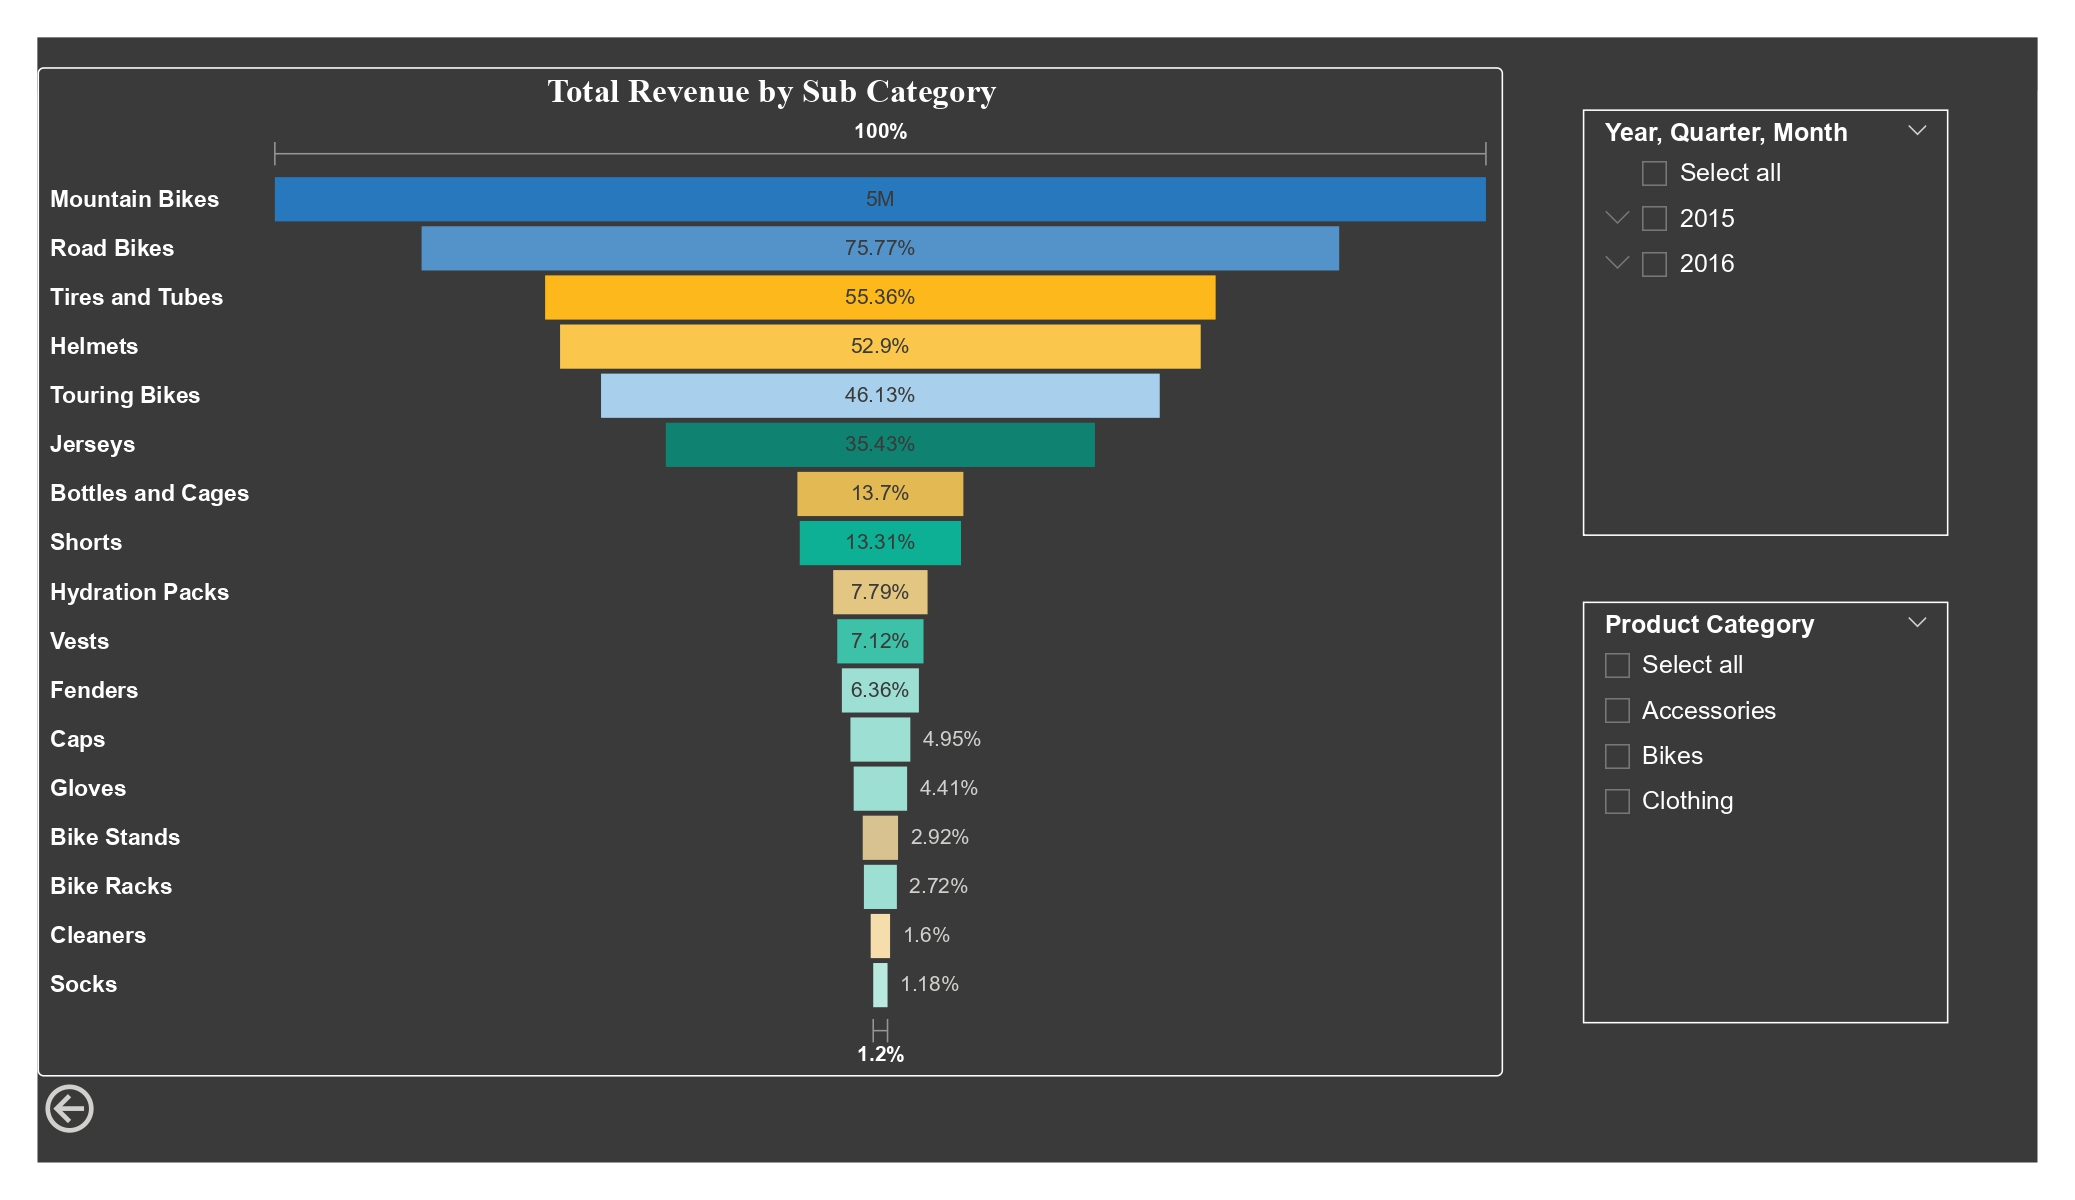

What the dashboard file says about the page in this screenshot:
{"tool":"powerbi","page":{"name":"P5","canvas":[1280,720],"ordinal":4},"visuals":[{"type":"funnel","fields":{"Category":["salesforcourse.Sub Category"],"Y":["Sum(salesforcourse.Revenue)"]},"box":[0,19,937.8,646.2],"z":0},{"type":"slicer","fields":{"Values":["salesforcourse.Date.Variation.Date Hierarchy.Year","salesforcourse.Date.Variation.Date Hierarchy.Quarter","salesforcourse.Date.Variation.Date Hierarchy.Month"]},"box":[989,46.4,234.4,272.5],"z":1},{"type":"slicer","fields":{"Values":["salesforcourse.Product Category"]},"box":[989,360.6,234.4,270.1],"z":2},{"type":"actionButton","box":[0,665.3,100,40.5],"z":3}]}

Visuals, with their boxes on the page's 1280x720 design canvas (x1, y1, x2, y2). These are canvas units, not pixel positions in the 2075x1200 screenshot, which may show the page scaled, cropped or inside an application window:
funnel - salesforcourse.Sub Category x Sum(salesforcourse.Revenue): (x1=0, y1=19, x2=938, y2=665)
slicer - salesforcourse.Date.Variation.Date Hierarchy.Year x salesforcourse.Date.Variation.Date Hierarchy.Quarter: (x1=989, y1=46, x2=1223, y2=319)
slicer - salesforcourse.Product Category: (x1=989, y1=361, x2=1223, y2=631)
actionButton: (x1=0, y1=665, x2=100, y2=706)
